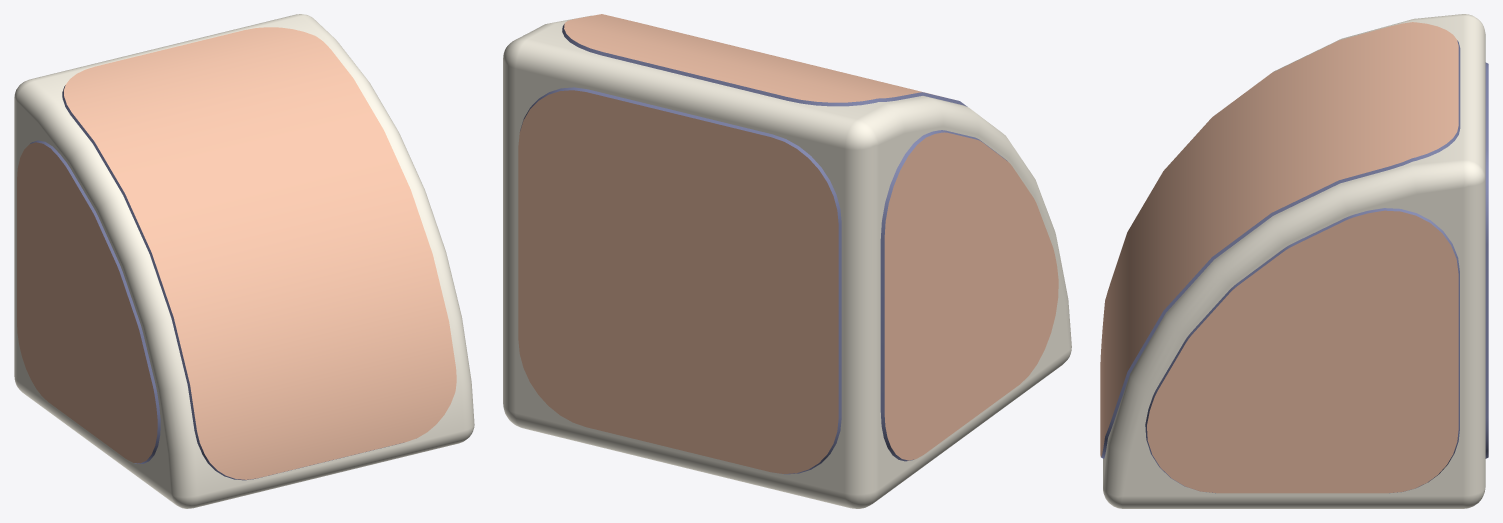
File: R4B_RoundEdge.fbx
The picture shows the model from 3 angles, left to right: view 1: azimuth 30°, elevation 25°; view 2: azimuth 150°, elevation 25°; view 3: azimuth 270°, elevation 25°; orthographic projection. The views are drawn at different scales.
Visible parts, largest first — view 1: R4B_RoundEdge; view 2: R4B_RoundEdge; view 3: R4B_RoundEdge.
Part boxes in pixels (x1,y1,x2,y2): R4B_RoundEdge: [14, 14, 474, 508]; R4B_RoundEdge: [503, 14, 1071, 508]; R4B_RoundEdge: [1100, 14, 1488, 508].
Bounding box in the file's own units: 0.52 × 0.5163 × 0.5163.
